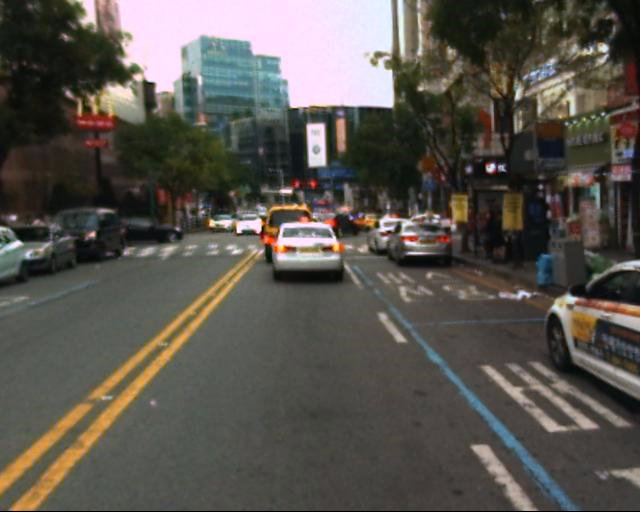person: (468, 198, 529, 278), (475, 206, 505, 274)
